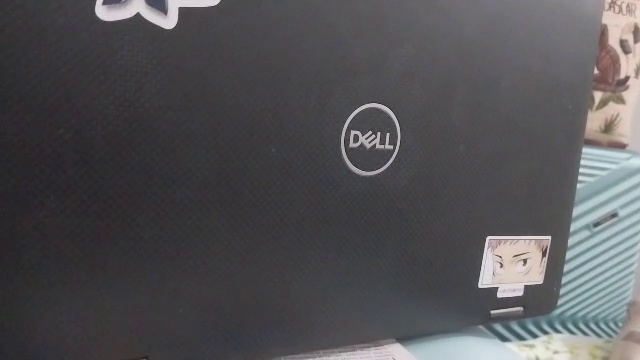laptop: (135, 24, 561, 313)
